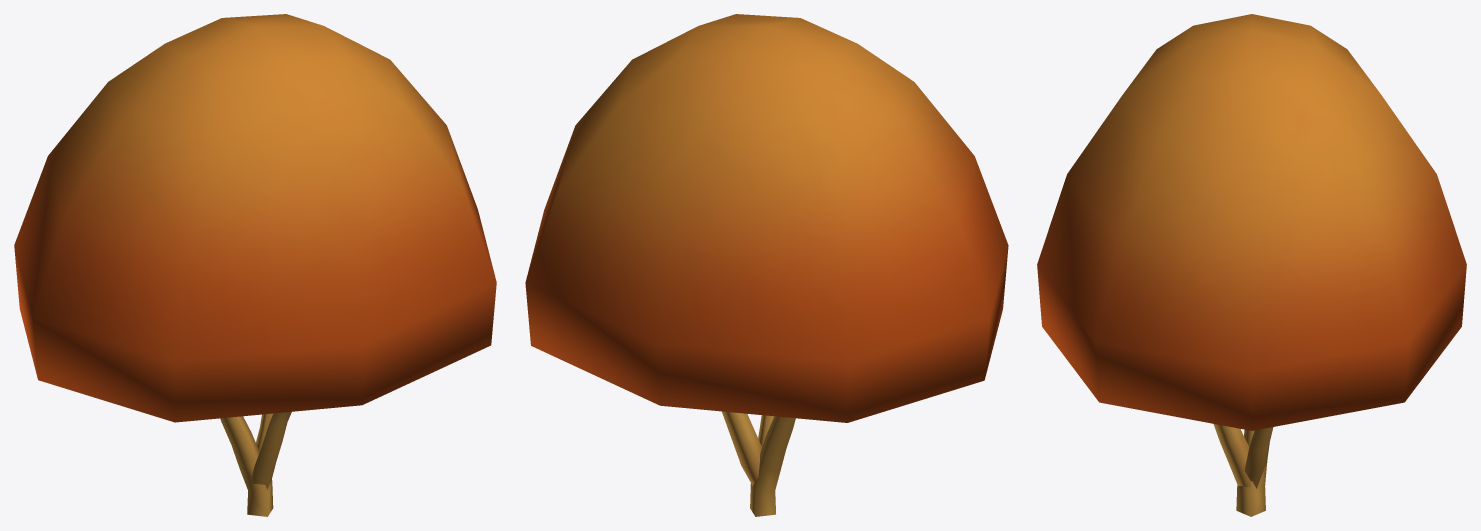
File: MLD_ 2_ Tree_ Orange.fbx
3 views of the same model, side by side, from view 1: azimuth 30°, elevation 25°; view 2: azimuth 150°, elevation 25°; view 3: azimuth 270°, elevation 25° (orthographic).
Parts seen in each view (by area): view 1: G_2_Tree_Orange; view 2: G_2_Tree_Orange; view 3: G_2_Tree_Orange.
Boxes of the visible parts, x1,y1,x2,y2 form: G_2_Tree_Orange: (14, 14, 496, 516); G_2_Tree_Orange: (525, 14, 1008, 516); G_2_Tree_Orange: (1037, 14, 1466, 516).
Bounding box in the file's own units: 303 × 317 × 258.
